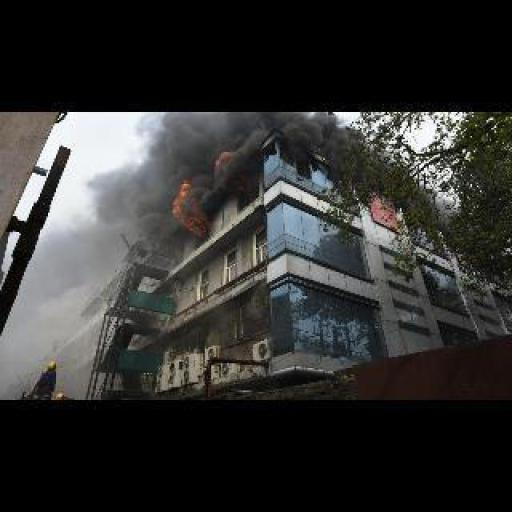smoke: (147, 112, 371, 176), (62, 163, 173, 269), (170, 178, 210, 240)
